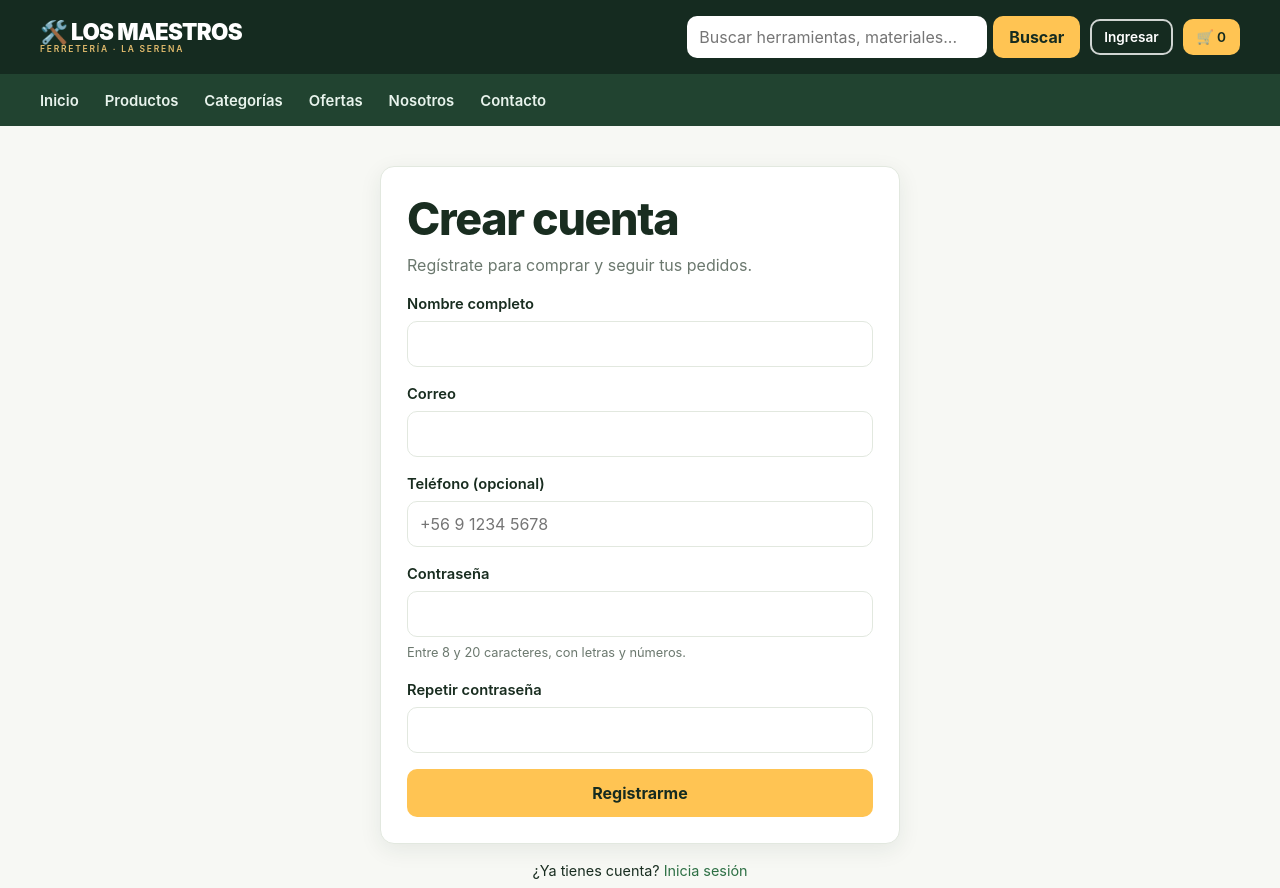
Test: Cuenta del cliente › P25 registro: rechaza un correo ya usado y luego crea la cuenta con sesión iniciada
Step 1. Type "Juan Pérez" into the field labelled "Nombre completo" → (640, 344), box [407,321,873,367]
Step 2. Type "cliente@gmail.com" into the field labelled "Correo" → (640, 434), box [407,411,873,457]
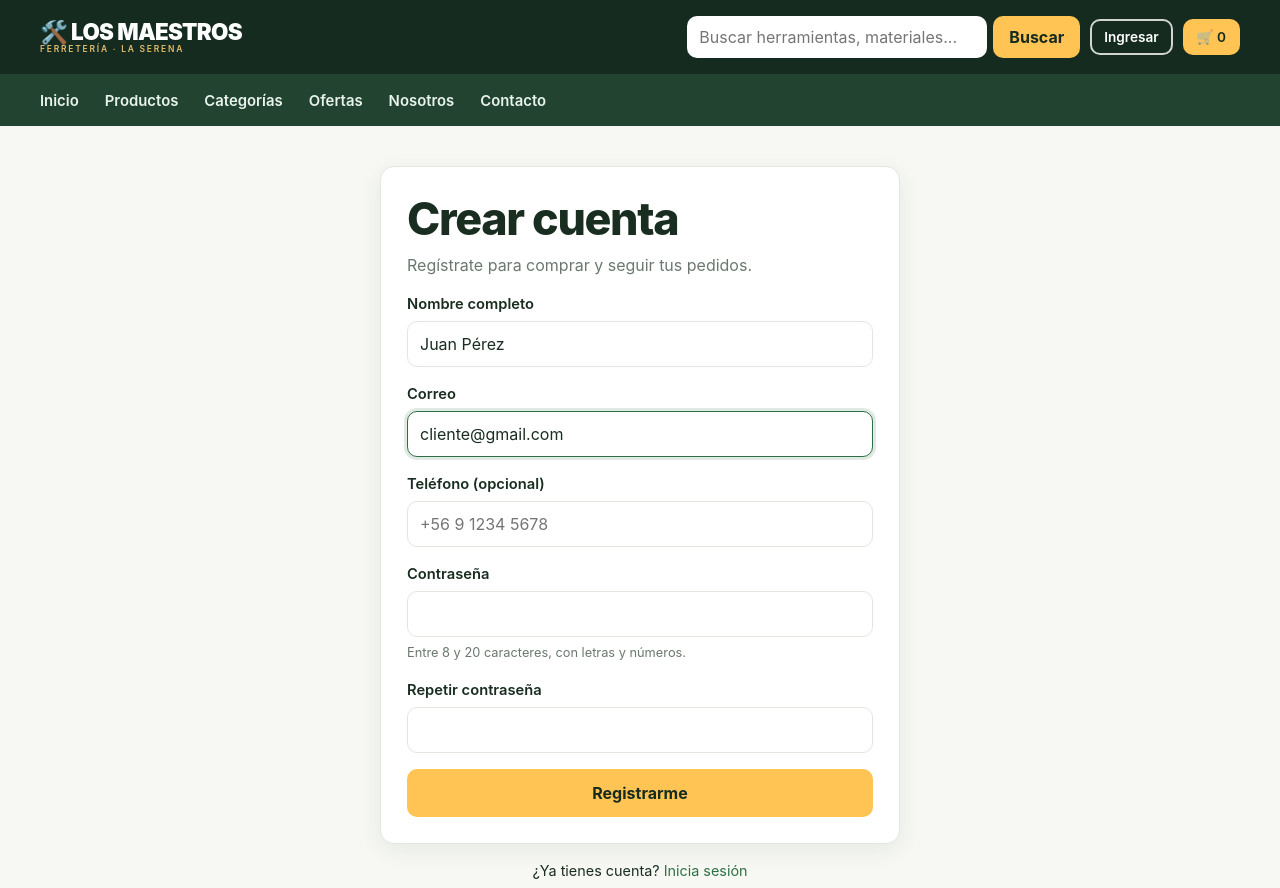
Step 3. Type "Obra2026" into the password field labelled "Contraseña" → (640, 614), box [407,591,873,637]
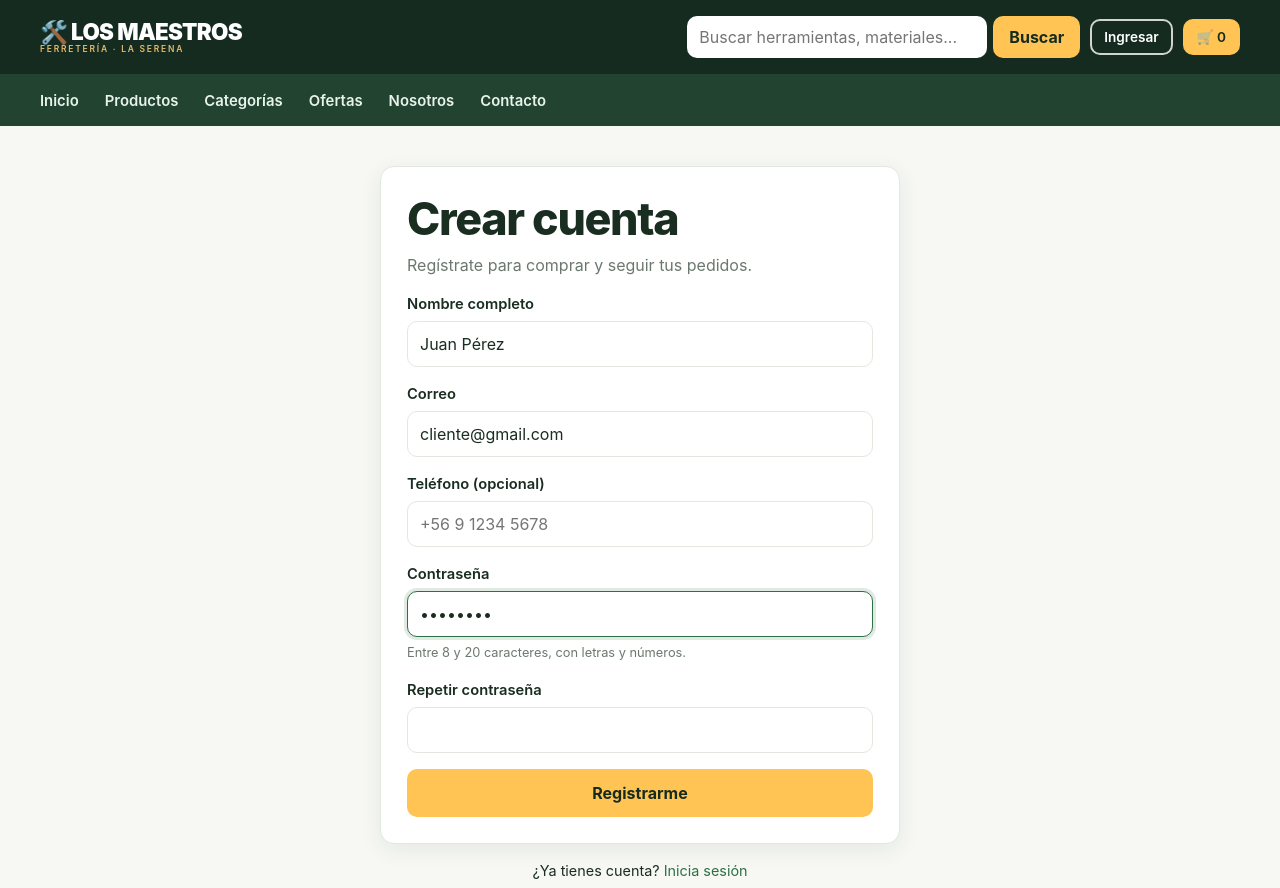
Step 4. Type "Obra2026" into the password field labelled "Repetir contraseña" → (640, 730), box [407,707,873,753]
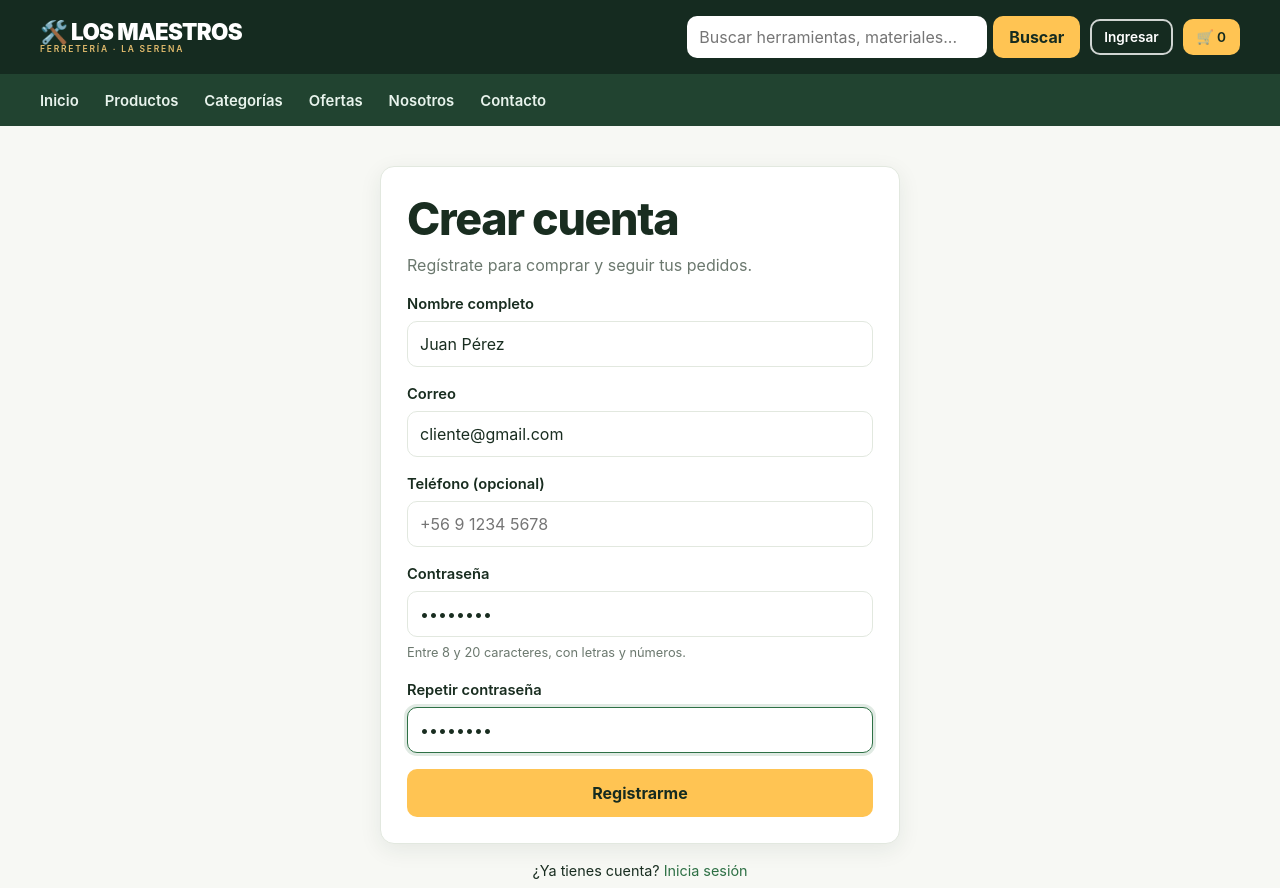
Step 5. Click the button "Registrarme" → click(640, 793), box [407,769,873,817]
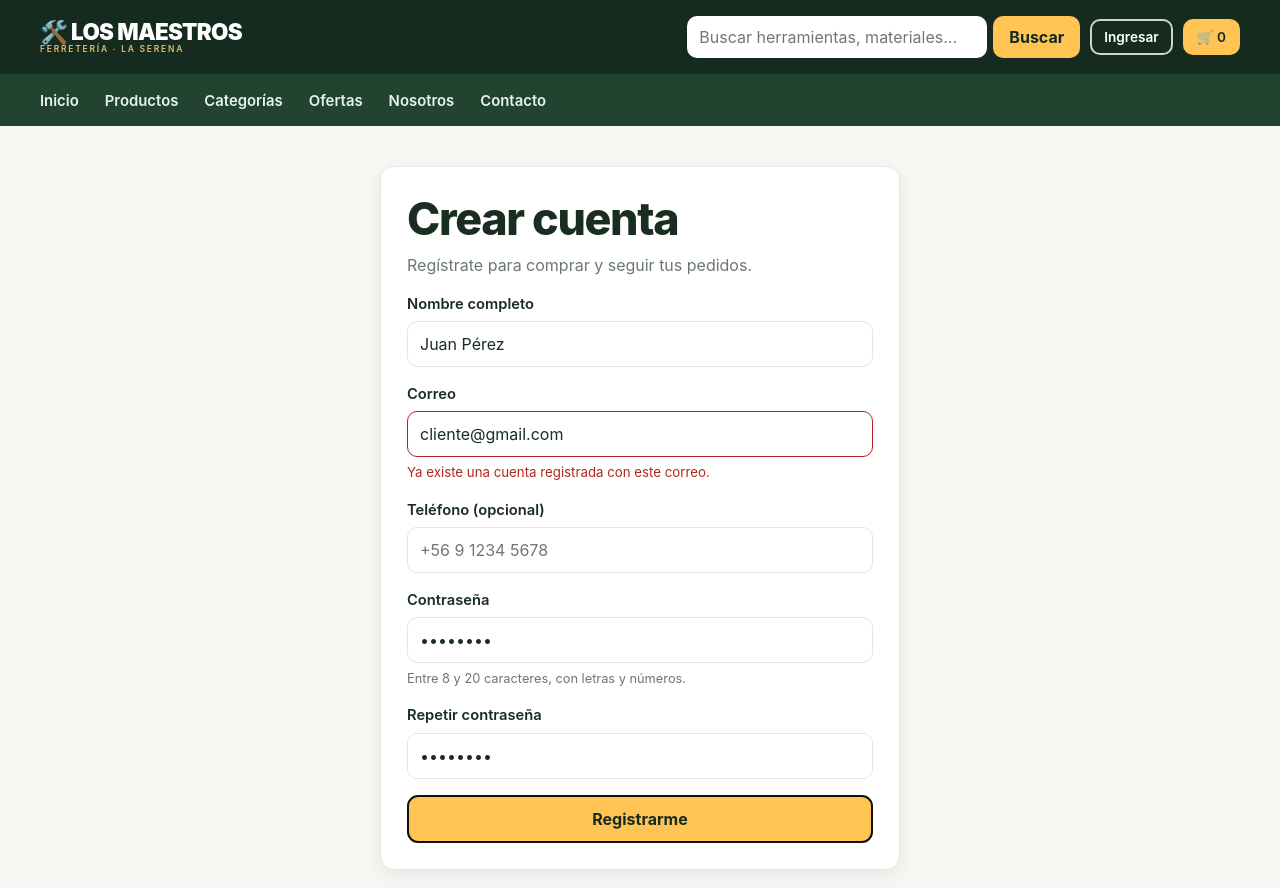
Check: the text "Ya existe una cuenta registrada con este correo." is shown, box [407,464,710,480]
Step 6. Replace the text in the field labelled "Correo" with "juan@obra.cl" → (640, 434), box [407,411,873,457]
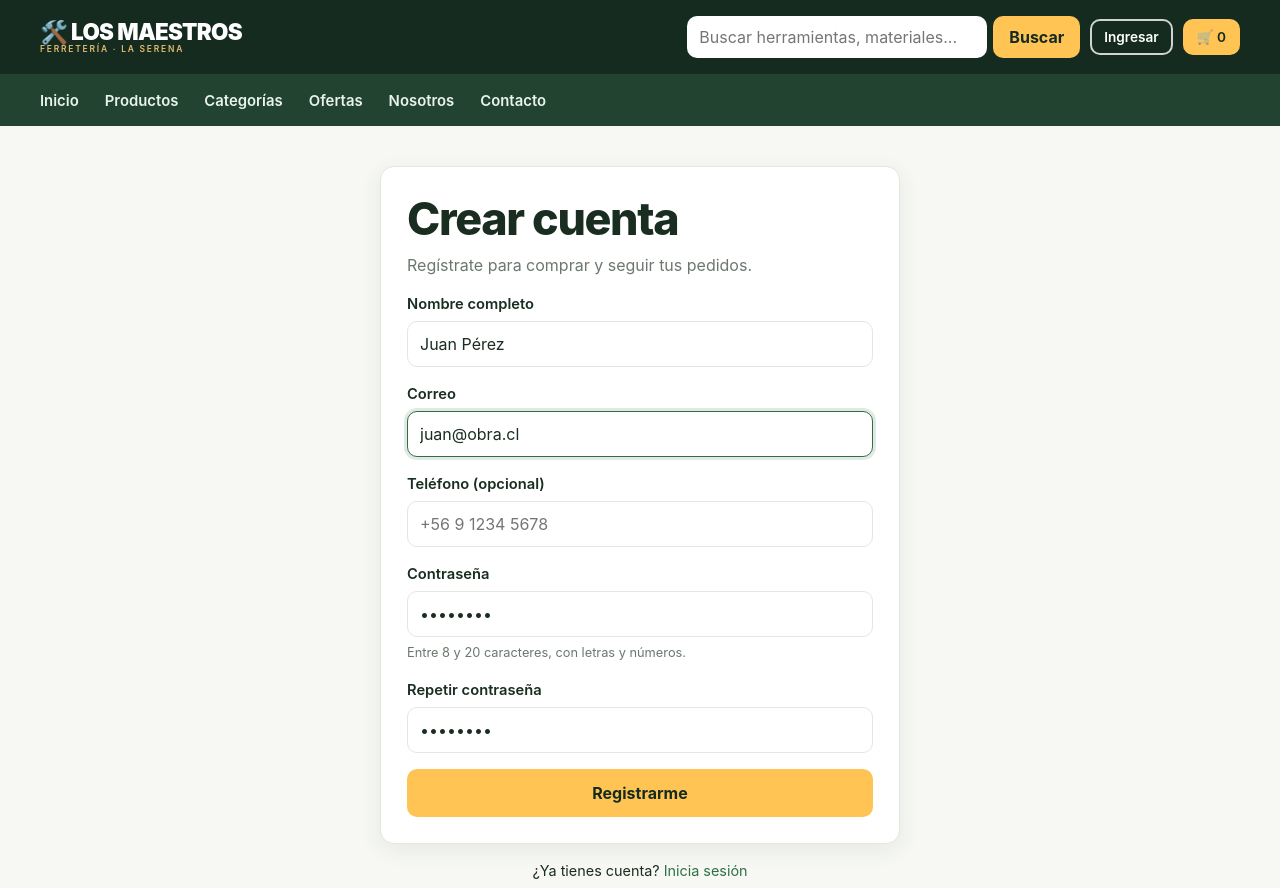
Step 7. Click the button "Registrarme" → click(640, 793), box [407,769,873,817]
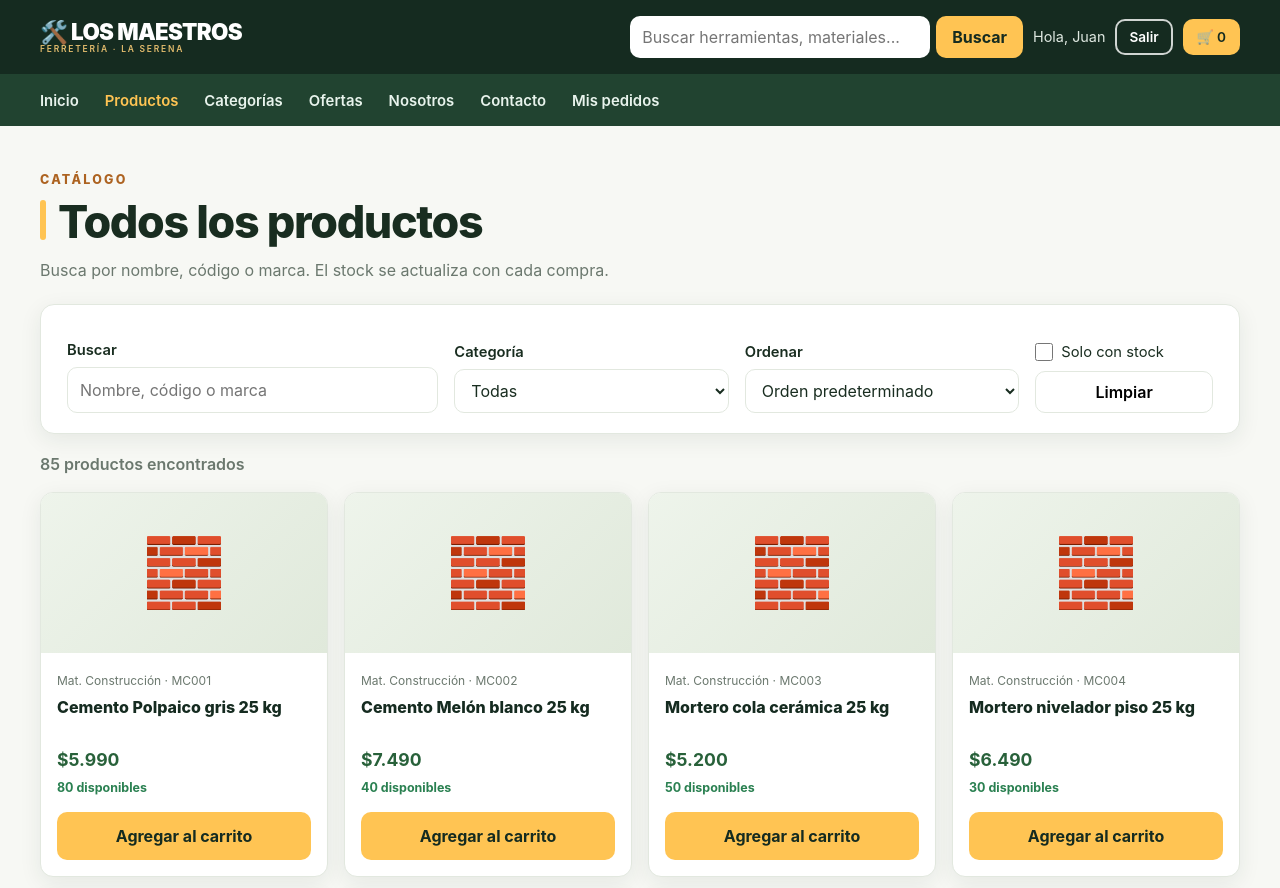
Check: the text "Hola, Juan" is shown, box [1033,26,1105,48]
